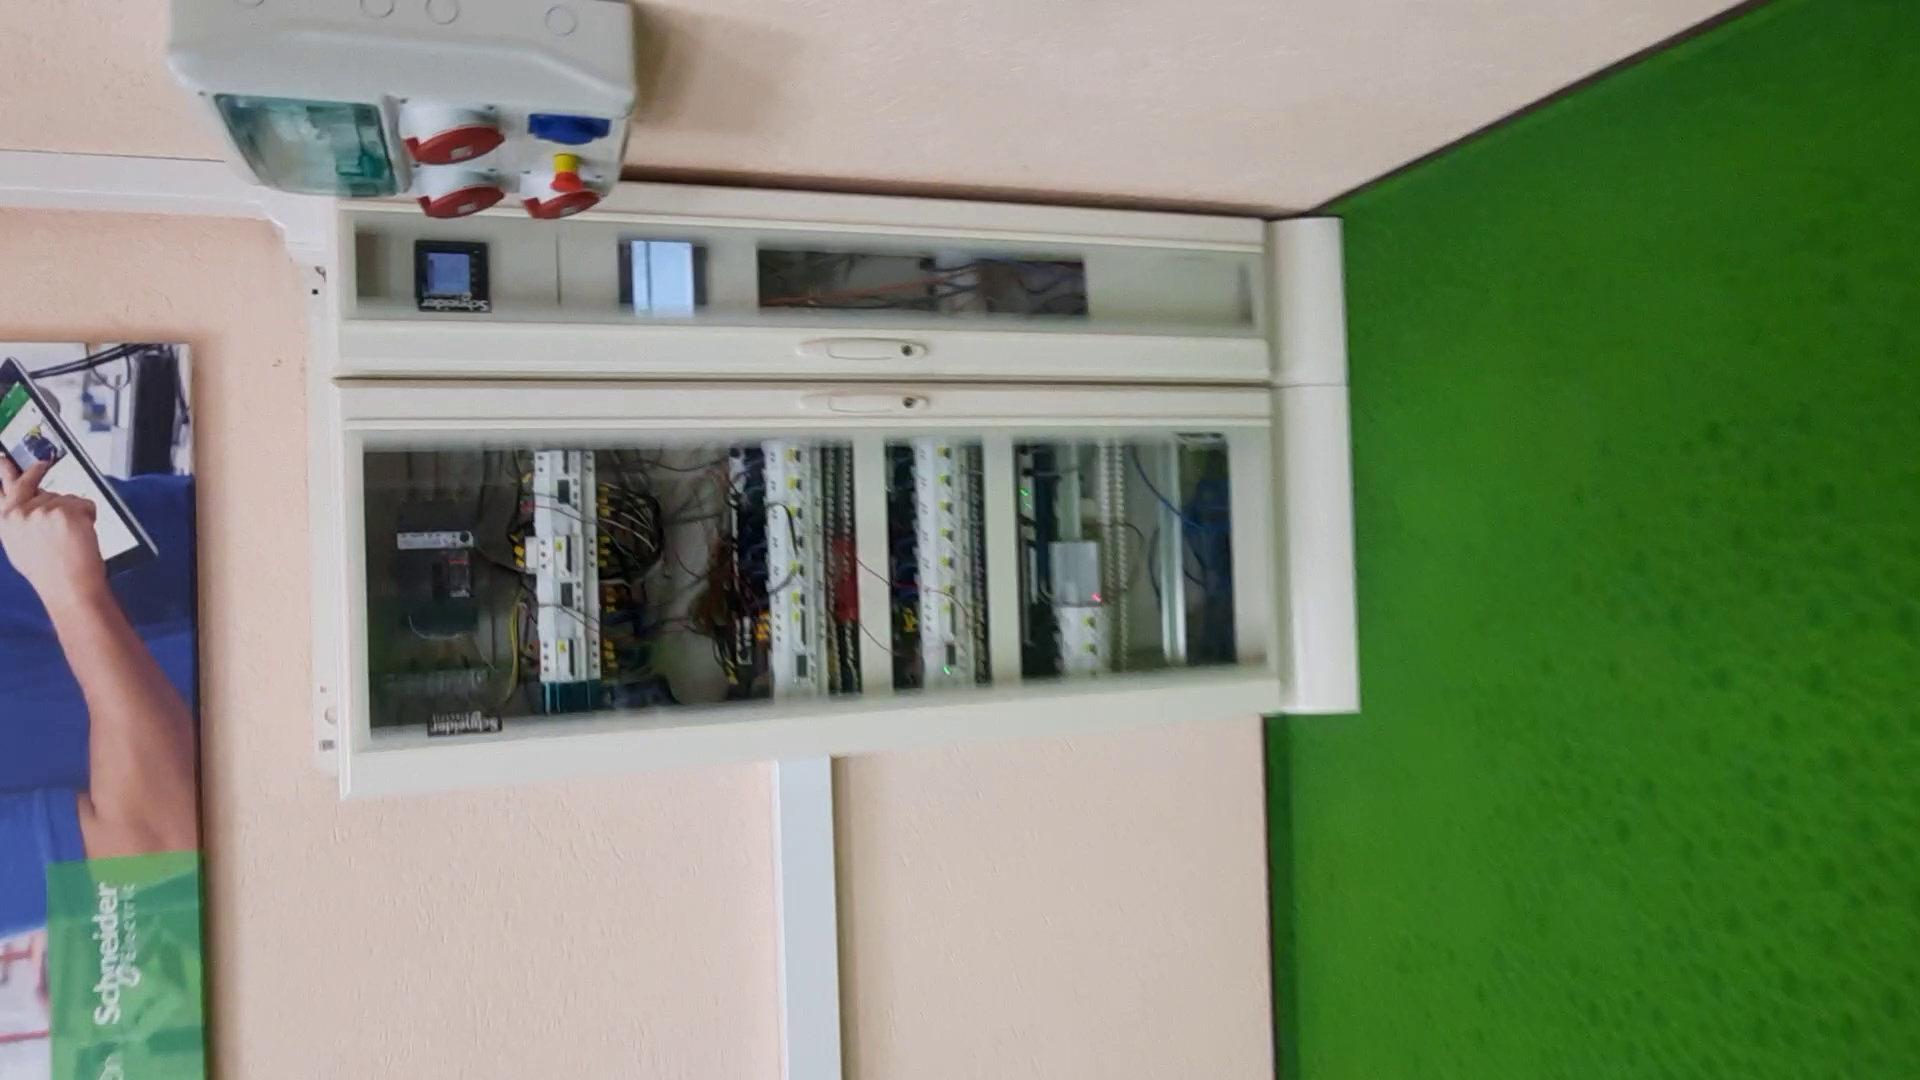stand1: (327, 215, 1357, 800)
